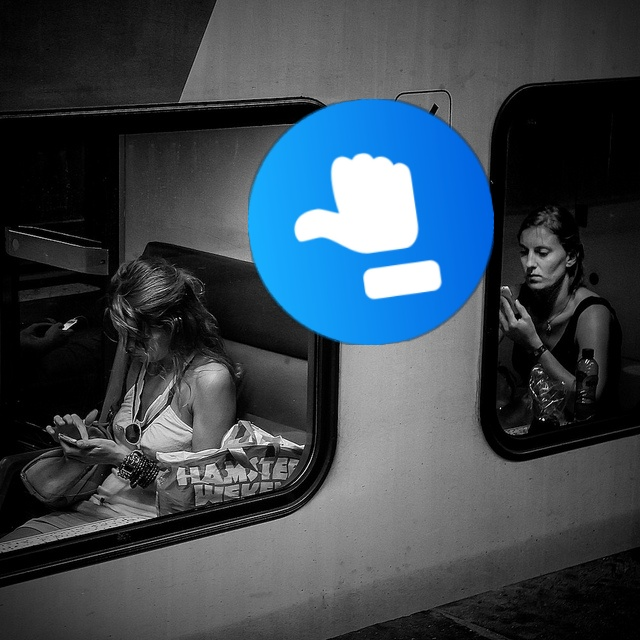like: (248, 99, 494, 345)
